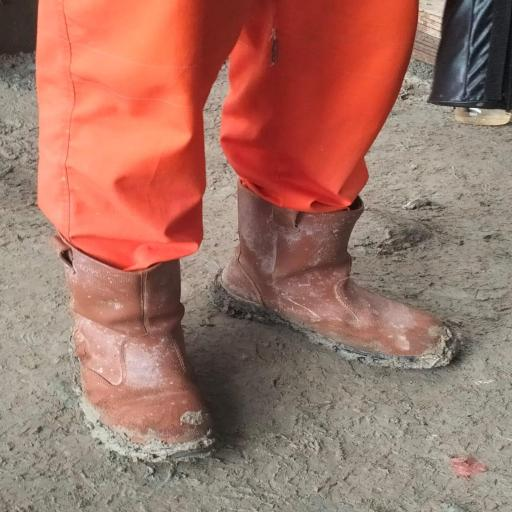safety_shoe: (230, 189, 462, 372), (58, 236, 218, 464)
